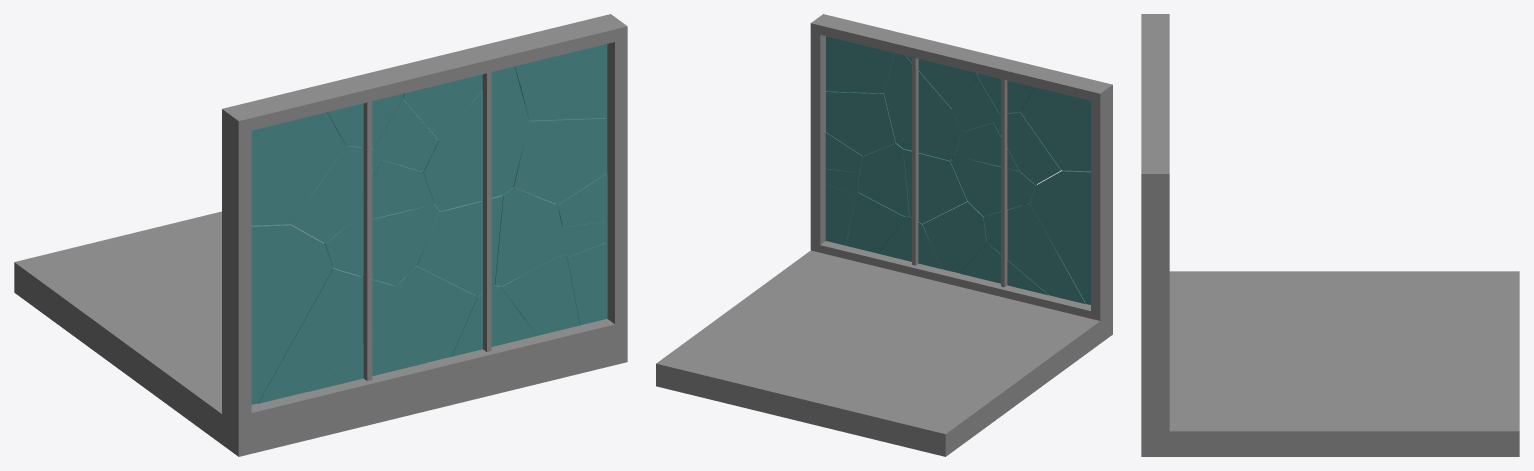
The model's file is MSH_Window_Front_Damaged_01.fbx.
3 renders of one model, left to right at view 1: azimuth 30°, elevation 25°; view 2: azimuth 150°, elevation 25°; view 3: azimuth 270°, elevation 25°, orthographic. The views are drawn at different scales.
Parts seen in each view (by area): view 1: MSH_Window_Front_Damaged_01; view 2: MSH_Window_Front_Damaged_01; view 3: MSH_Window_Front_Damaged_01.
Part boxes in pixels (box(x1,y1,x2,y2)): MSH_Window_Front_Damaged_01: box(14, 14, 627, 456); MSH_Window_Front_Damaged_01: box(656, 14, 1112, 456); MSH_Window_Front_Damaged_01: box(1141, 14, 1519, 456).
Bounding box in the file's own units: 157 × 130 × 157.
